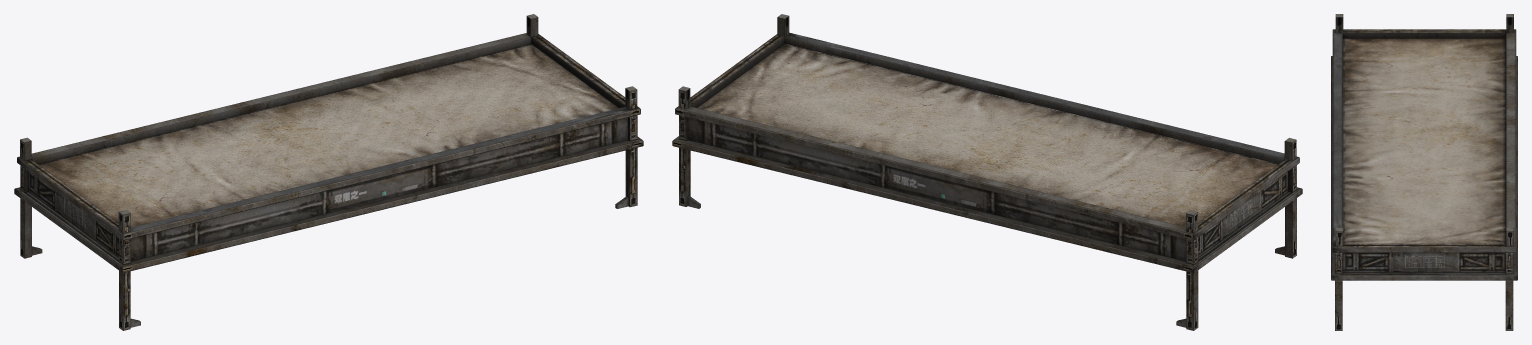
Rendered from bunkbed_medicbay.dae.
The picture shows the model from 3 angles, left to right: view 1: azimuth 30°, elevation 25°; view 2: azimuth 150°, elevation 25°; view 3: azimuth 270°, elevation 25°; orthographic projection. The views are drawn at different scales.
Visible parts, largest first — view 1: polySurface20; view 2: polySurface20; view 3: polySurface20.
Part boxes in pixels (x1,y1,x2,y2): polySurface20: [14, 14, 643, 330]; polySurface20: [672, 14, 1302, 330]; polySurface20: [1331, 14, 1517, 330].
Bounding box in the file's own units: 3.93 × 0.8344 × 1.41.
